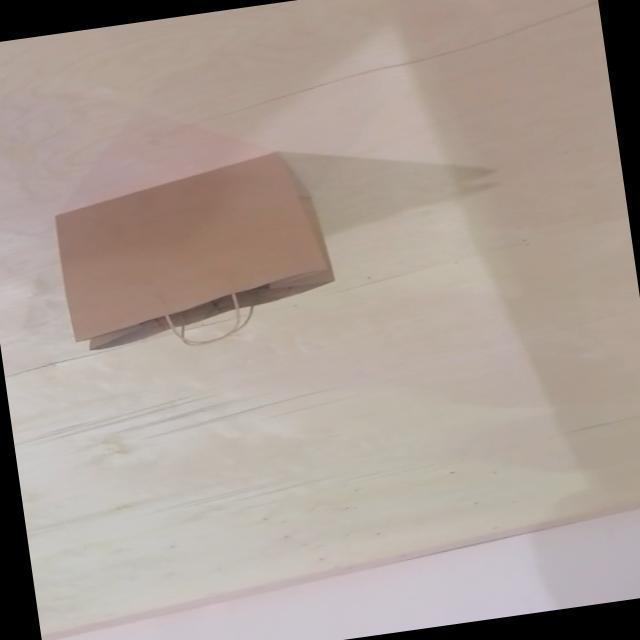Paper_Bag: (50, 146, 342, 362)
